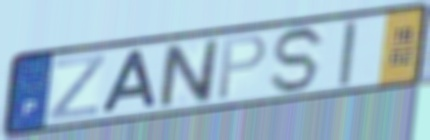A: (98, 47, 159, 116)
I: (336, 18, 360, 89)
N: (157, 37, 220, 111)
P: (214, 32, 269, 103)
S: (269, 24, 329, 96)
Z: (46, 52, 108, 123)
